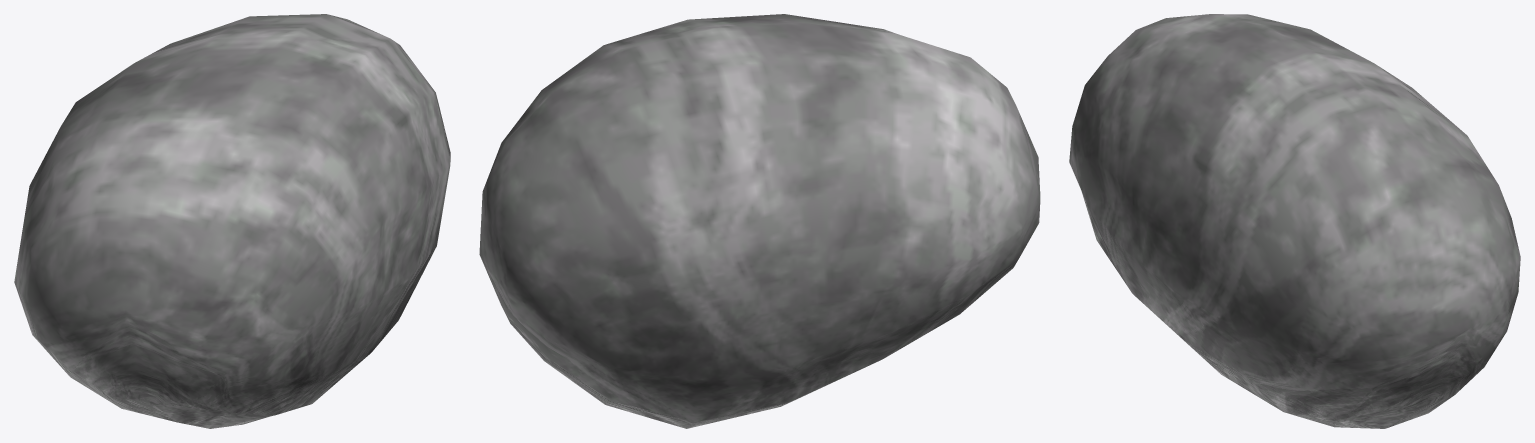
File: Potato_Item (9).fbx
3 renders of one model, left to right at view 1: azimuth 30°, elevation 25°; view 2: azimuth 150°, elevation 25°; view 3: azimuth 270°, elevation 25°, orthographic. The views are drawn at different scales.
Visible parts, largest first — view 1: Potato; view 2: Potato; view 3: Potato.
Boxes of the visible parts, x1,y1,x2,y2 form: Potato: (14, 14, 450, 428); Potato: (479, 14, 1040, 428); Potato: (1069, 14, 1520, 428).
Bounding box in the file's own units: 0.5685 × 0.4336 × 0.5129.
